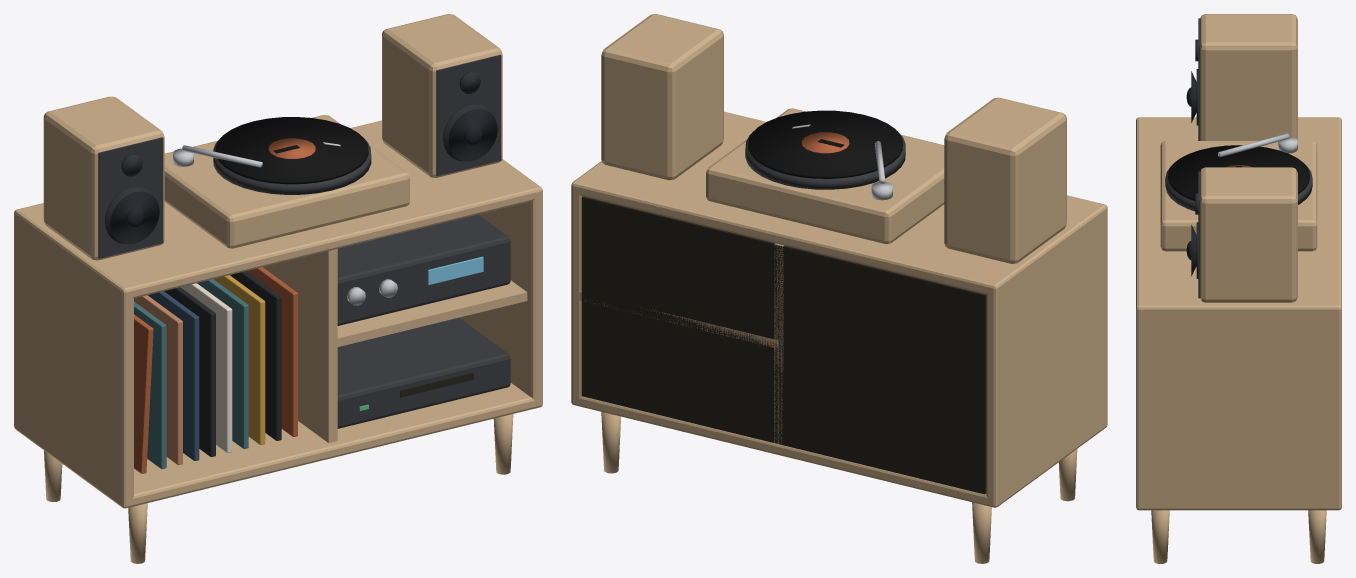
Rendered from stereo.glb.
3 renders of one model, left to right at view 1: azimuth 30°, elevation 25°; view 2: azimuth 150°, elevation 25°; view 3: azimuth 270°, elevation 25°, orthographic. The views are drawn at different scales.
Visible parts, largest first — view 1: stereo, record, cones; view 2: stereo, record; view 3: stereo, record, cones.
Part boxes in pixels (<box>): stereo: <box>14,14,542,563</box>; record: <box>213,117,371,194</box>; cones: <box>110,109,497,244</box>; stereo: <box>571,14,1107,563</box>; record: <box>745,110,905,189</box>; stereo: <box>1136,14,1341,563</box>; record: <box>1165,145,1312,211</box>; cones: <box>1186,71,1196,276</box>.
Size of the model in its own units: 0.92 by 0.84 by 0.42.
